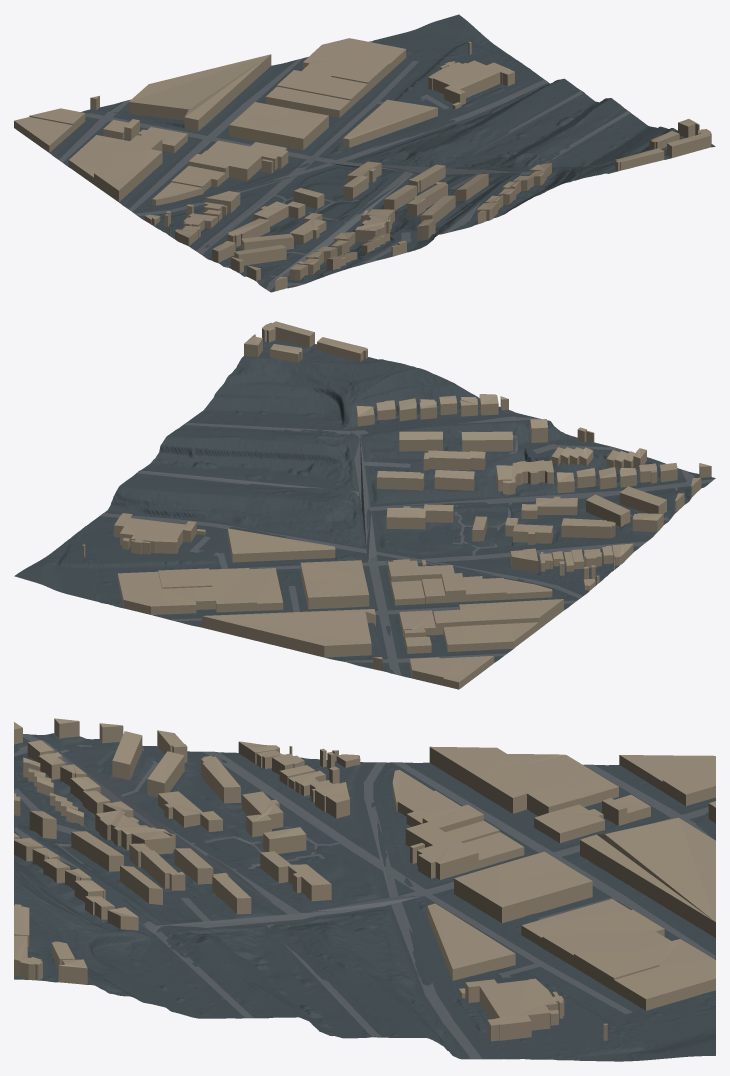
Rendered from epsg26910-1444-10874.lod0.glb.
The picture shows the model from 3 angles, top to bottom: view 1: azimuth 30°, elevation 25°; view 2: azimuth 150°, elevation 25°; view 3: azimuth 270°, elevation 25°; orthographic projection. The views are drawn at different scales.
Parts seen in each view (by area): view 1: epsg26910-1444-10874-lod0; view 2: epsg26910-1444-10874-lod0; view 3: epsg26910-1444-10874-lod0.
Part boxes in pixels (box(x1,y1,x2,y2)): epsg26910-1444-10874-lod0: box(14, 14, 715, 292); epsg26910-1444-10874-lod0: box(14, 321, 715, 689); epsg26910-1444-10874-lod0: box(14, 718, 715, 1061).
Size of the model in its own units: 384 by 61.09 by 384.
